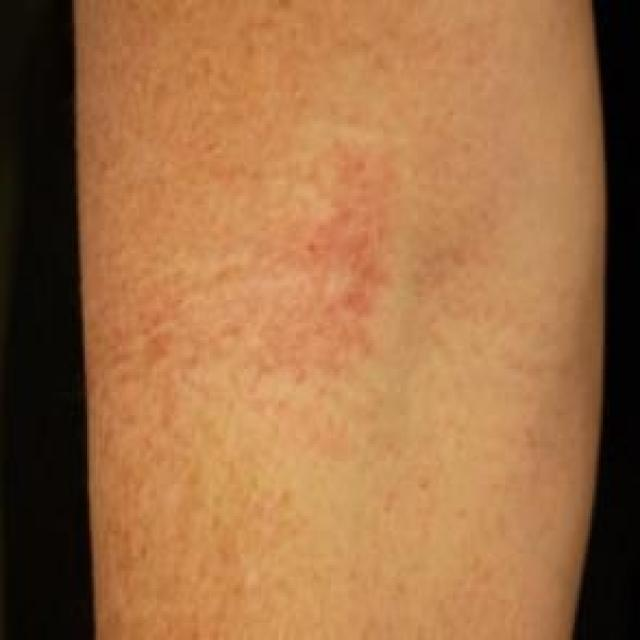Eczema: (67, 80, 391, 447)
